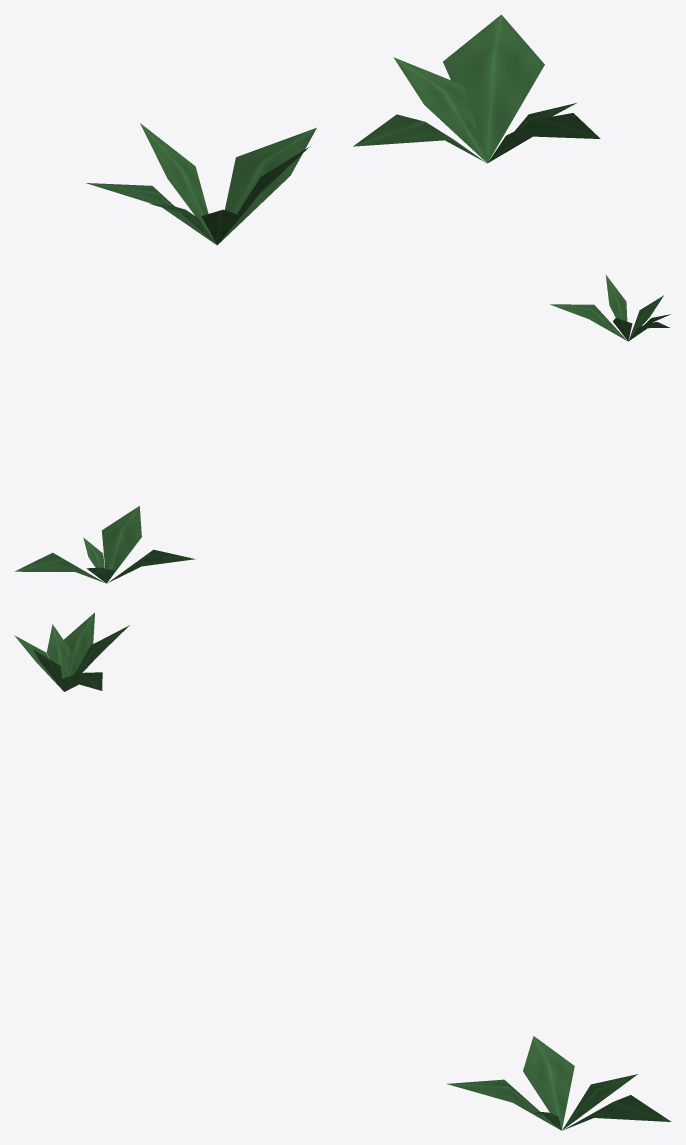
The model's file is GroundCover_15_17.glb.
The picture shows the model from 3 angles, top to bottom: view 1: azimuth 30°, elevation 25°; view 2: azimuth 150°, elevation 25°; view 3: azimuth 270°, elevation 25°; orthographic projection. The views are drawn at different scales.
Visible parts, largest first — view 1: GroundCover_15_17; view 2: GroundCover_15_17; view 3: GroundCover_15_17.
Boxes of the visible parts, x1,y1,x2,y2 form: GroundCover_15_17: (86,14,600,245); GroundCover_15_17: (15,275,671,583); GroundCover_15_17: (14,612,671,1130).
Bounding box in the file's own units: 2.07 × 1.05 × 2.12.
1 material, 1 textured.
